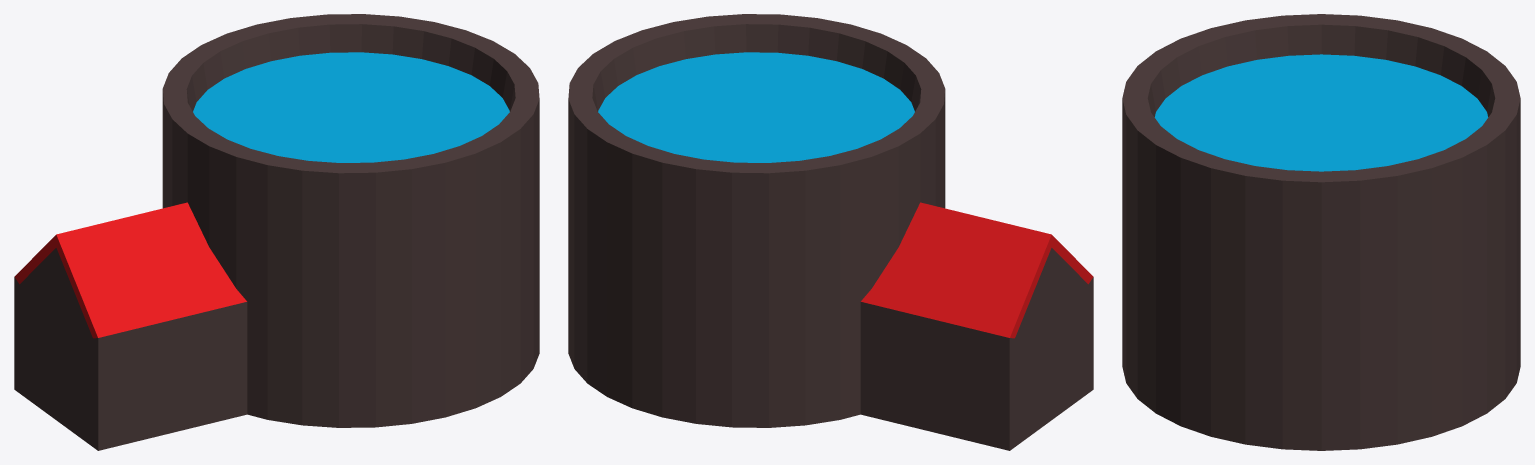
The model's file is WaterTank.fbx.
3 renders of one model, left to right at view 1: azimuth 30°, elevation 25°; view 2: azimuth 150°, elevation 25°; view 3: azimuth 270°, elevation 25°, orthographic. The views are drawn at different scales.
Parts seen in each view (by area): view 1: Cylinder; view 2: Cylinder; view 3: Cylinder.
Boxes of the visible parts, x1,y1,x2,y2 form: Cylinder: (14,14,539,450); Cylinder: (568,14,1093,450); Cylinder: (1122,14,1520,450).
Size of the model in its own units: 850 by 451 by 606.
